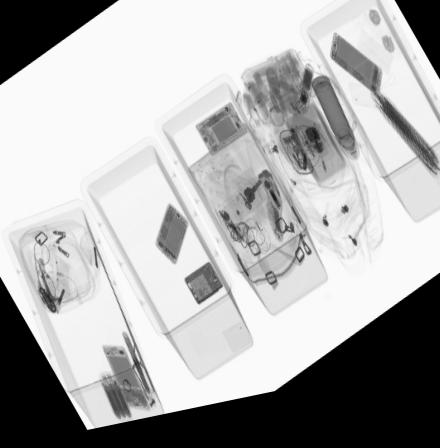Lighter: (37, 259, 46, 285)
